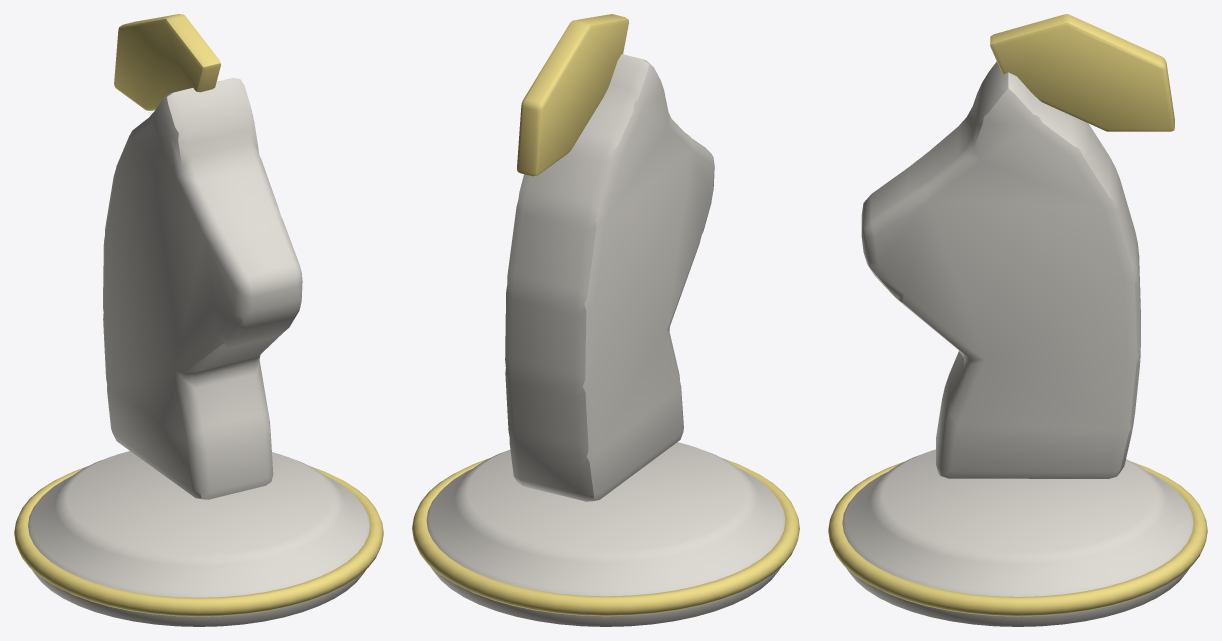
File: Santorini_Caballo.fbx
3 renders of one model, left to right at view 1: azimuth 30°, elevation 25°; view 2: azimuth 150°, elevation 25°; view 3: azimuth 270°, elevation 25°, orthographic. The views are drawn at different scales.
Visible parts, largest first — view 1: Santorini_Caballo; view 2: Santorini_Caballo; view 3: Santorini_Caballo.
Boxes of the visible parts, x1,y1,x2,y2 form: Santorini_Caballo: (14,14,383,626); Santorini_Caballo: (412,14,799,626); Santorini_Caballo: (828,14,1207,626).
Size of the model in its own units: 0.77 by 1.2 by 0.77.
